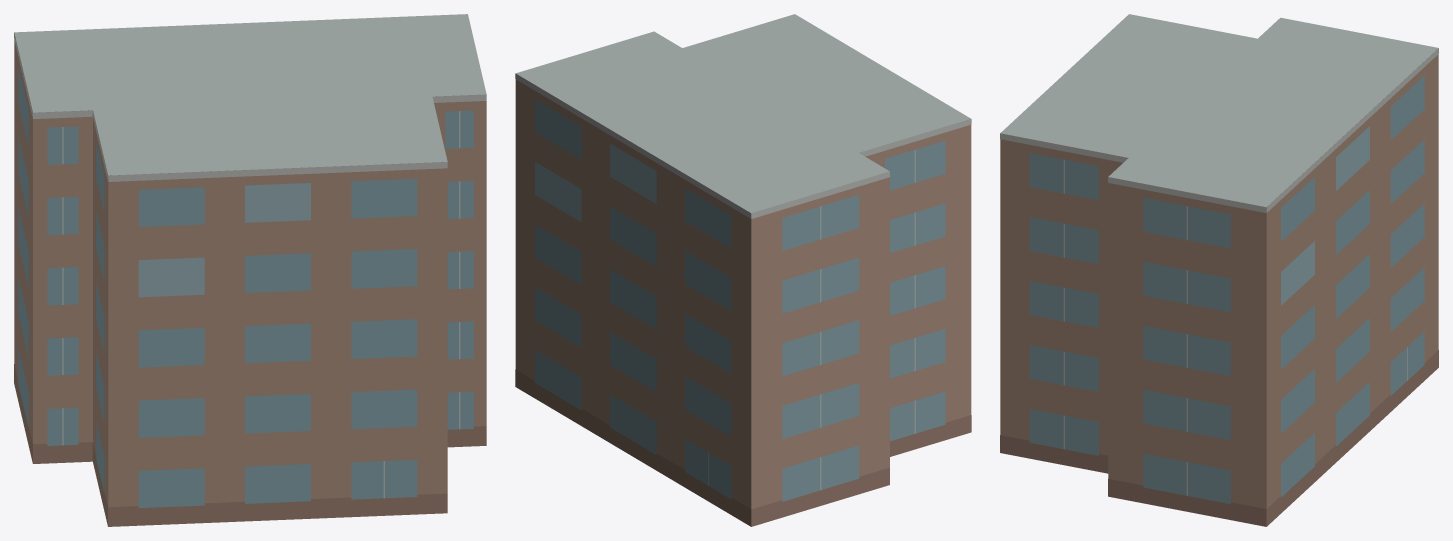
The model's file is survey-upis-32551312.glb.
The picture shows the model from 3 angles, left to right: view 1: azimuth 30°, elevation 25°; view 2: azimuth 150°, elevation 25°; view 3: azimuth 270°, elevation 25°; orthographic projection. The views are drawn at different scales.
Visible parts, largest first — view 1: survey-upis-32551312.tmp; view 2: survey-upis-32551312.tmp; view 3: survey-upis-32551312.tmp.
Part boxes in pixels (x1,y1,x2,y2): survey-upis-32551312.tmp: [14, 14, 486, 526]; survey-upis-32551312.tmp: [515, 14, 971, 526]; survey-upis-32551312.tmp: [1000, 14, 1438, 526].
Bounding box in the file's own units: 17.19 × 13.25 × 16.49.
